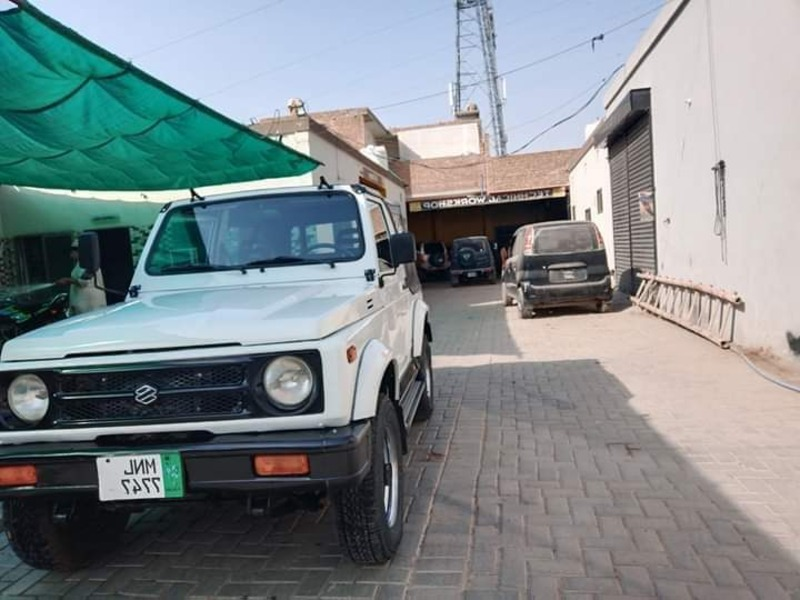License Plate: (89, 450, 198, 504)
